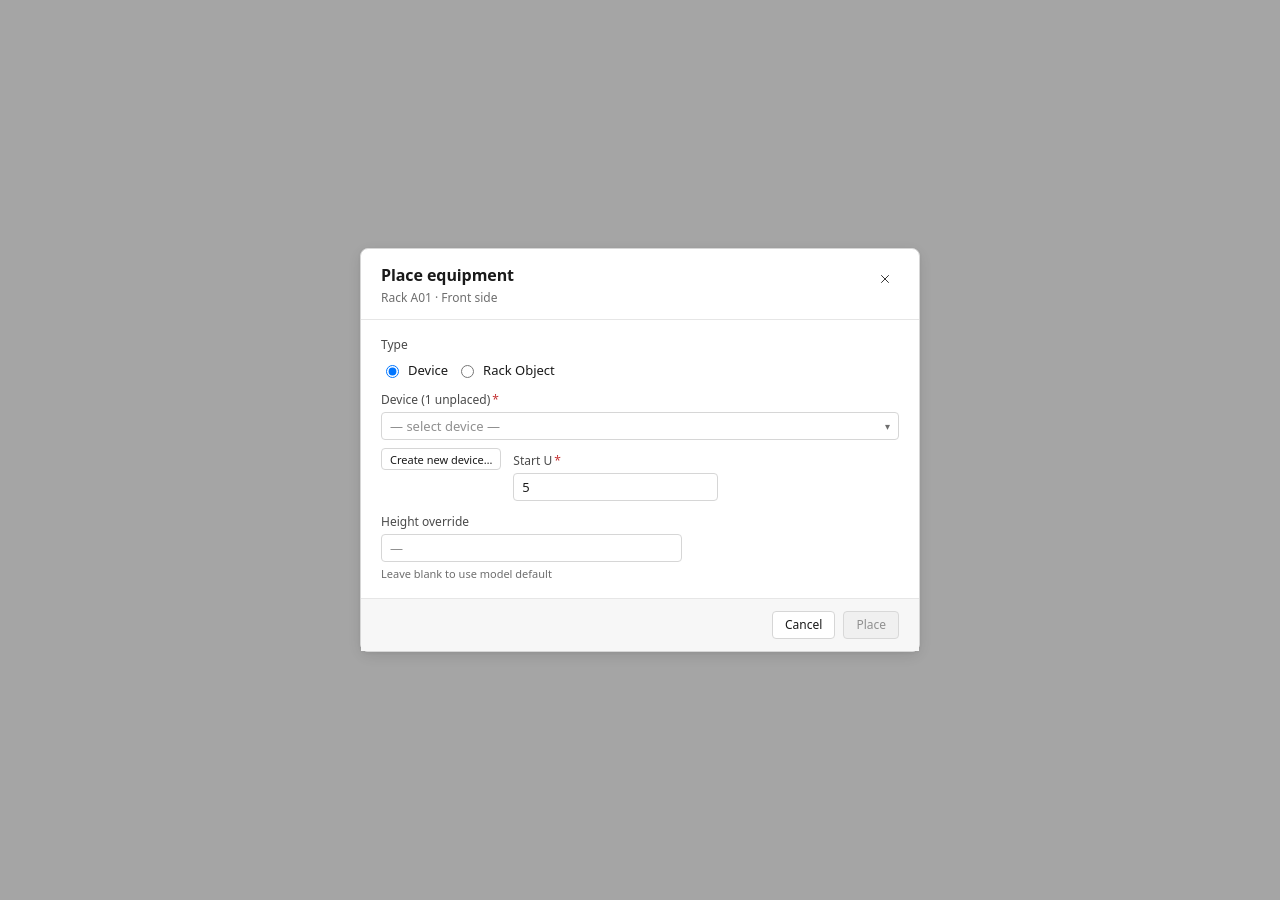
Scenario: PlacePlacementModal — open › shows error message in footer when backend rejects
Click the button with test id "device-select-trigger" at [445, 426], box left=381, top=412, right=899, bottom=440
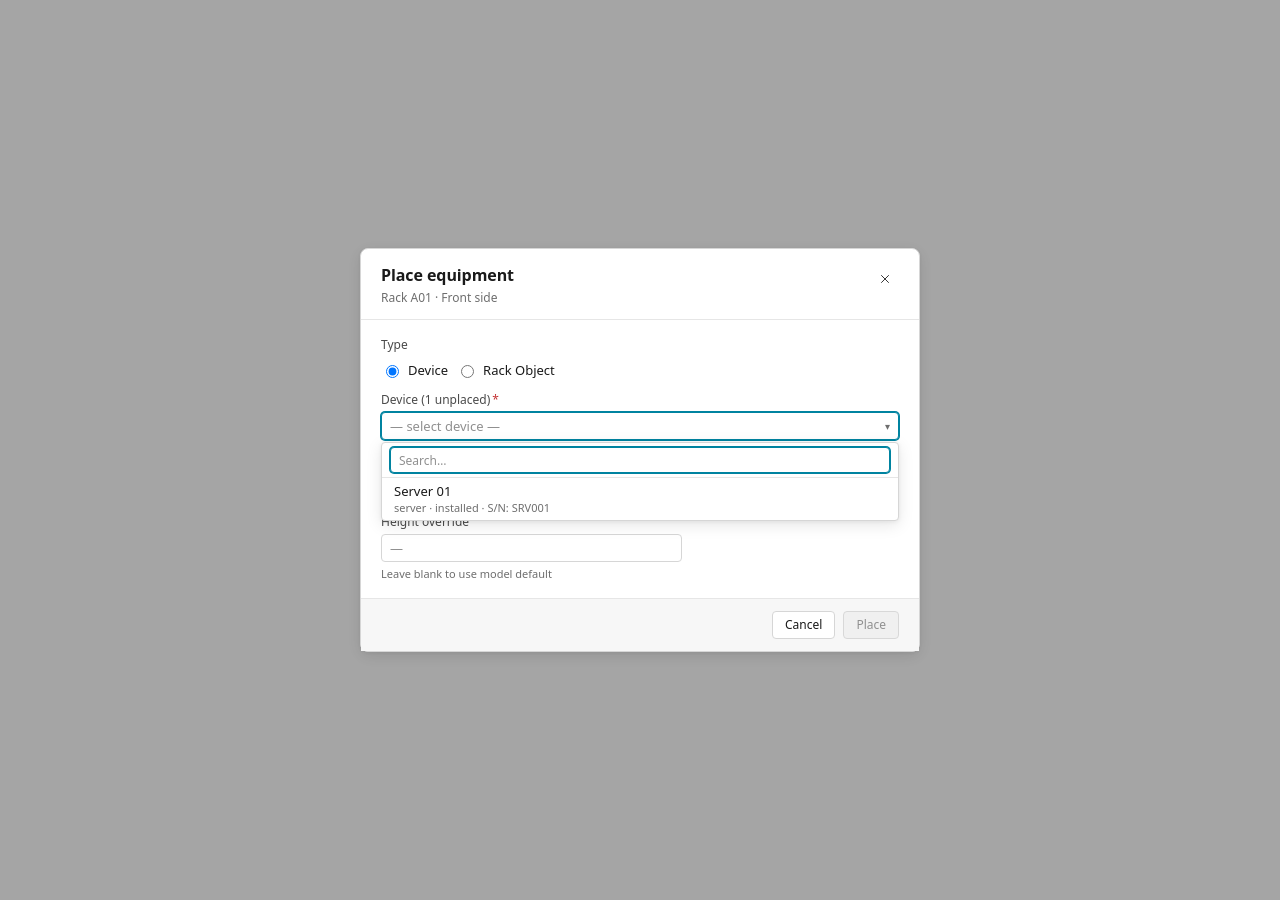
Press the mouse on the option with class "ss-option" at [472, 499], box left=394, top=482, right=550, bottom=515
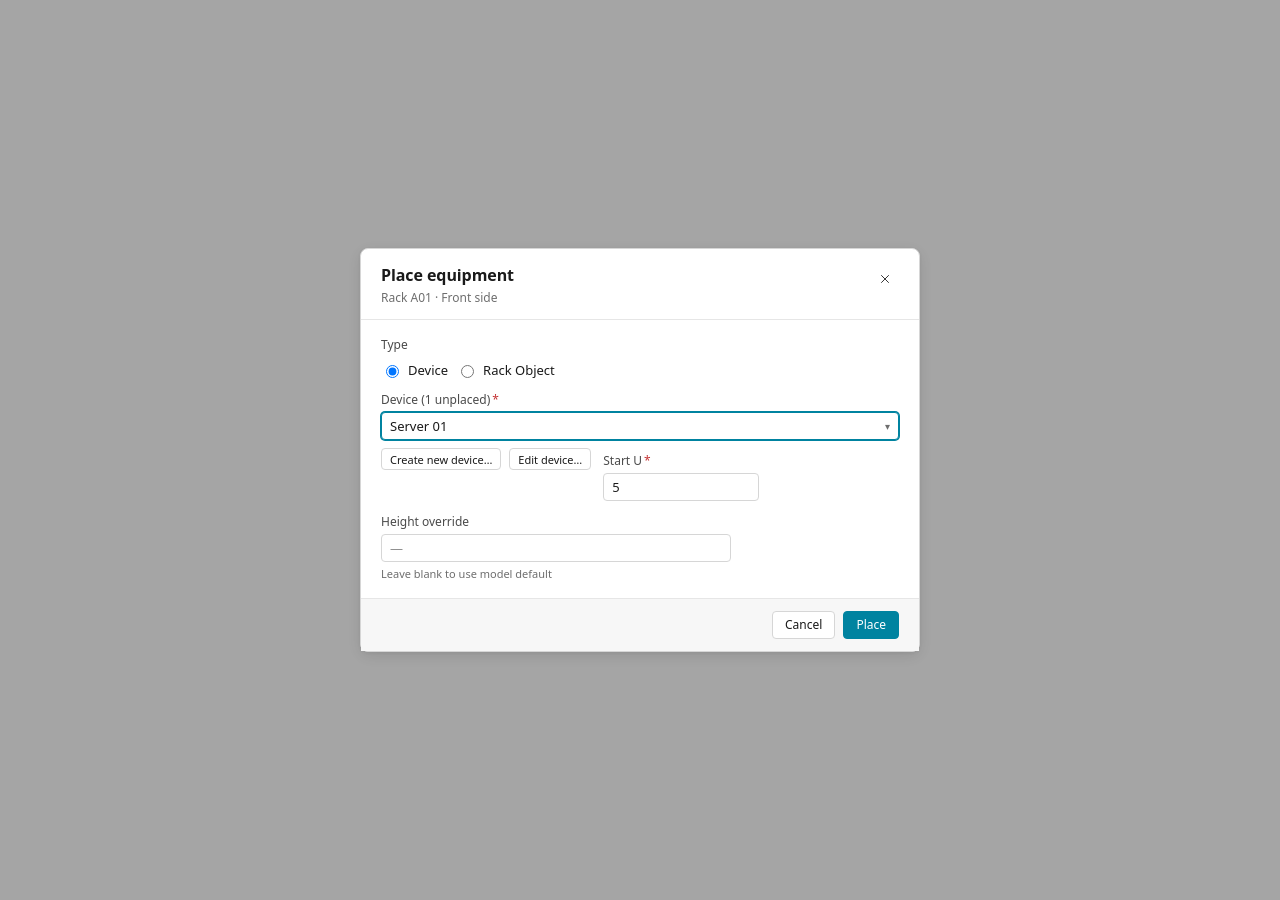
Click the button with test id "place-btn" at [871, 625], box left=843, top=611, right=899, bottom=639
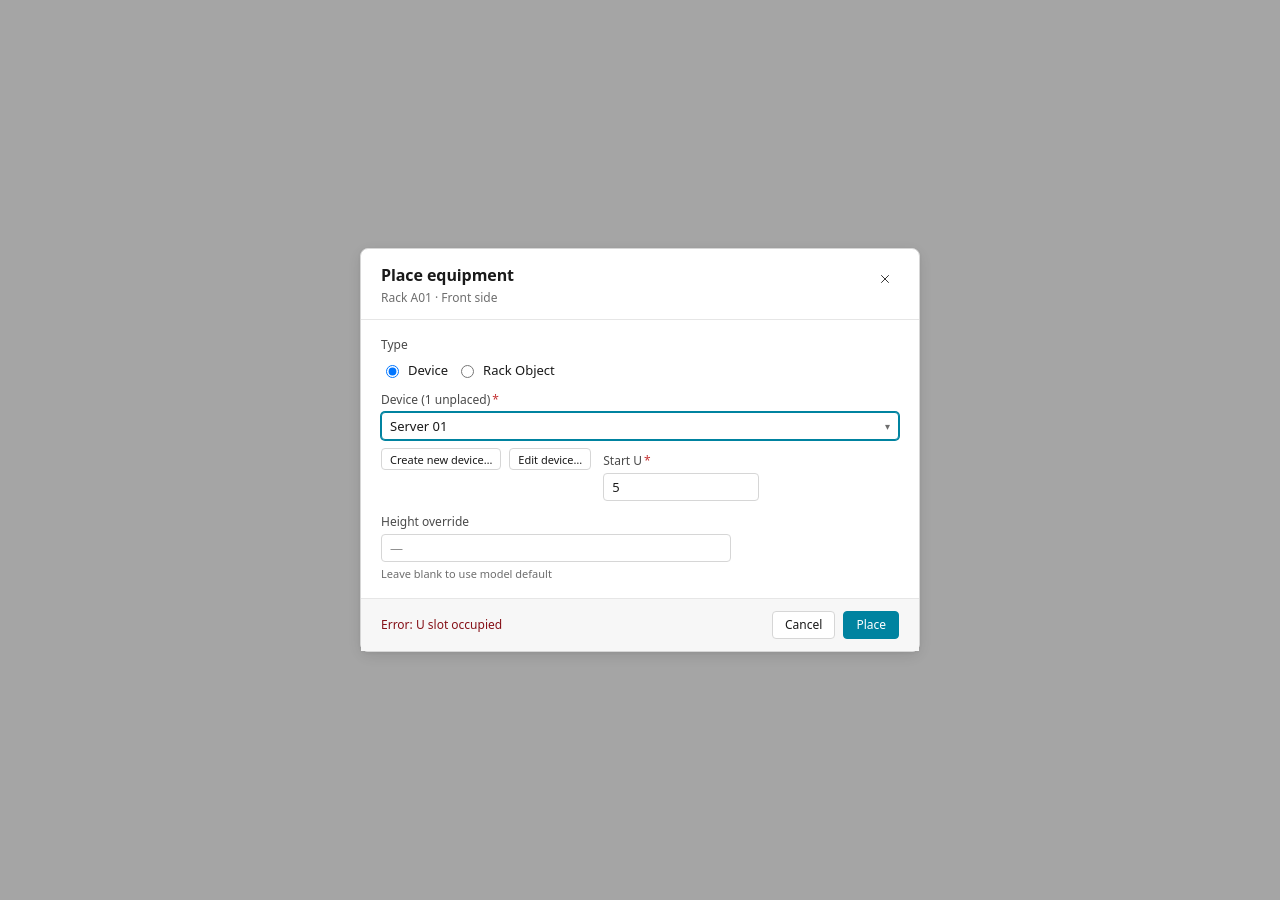
Check: the text "Error: U slot occupied" is shown, box left=381, top=616, right=502, bottom=633
